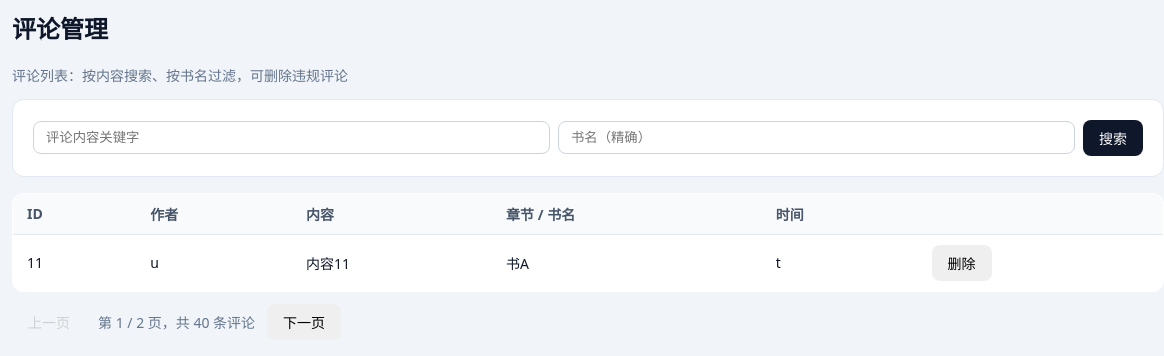
Comments.vue › 翻页作废未完成的删除确认
The image size is (1164, 356).
What coordinates should you click on to do the following:
click the button "删除"
I would click on:
 (962, 263)
Its box is 932,245 -> 992,281.
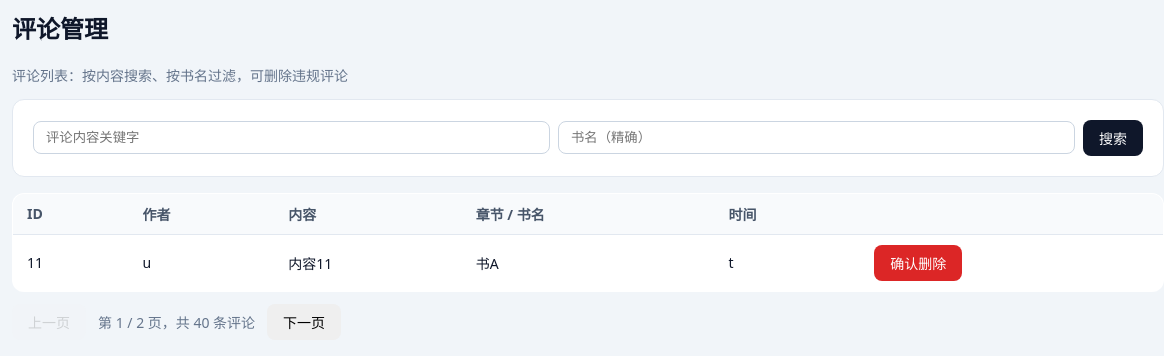
Check: the text "确认删除" is shown, box 874,245 -> 962,281
What coordinates should you click on to do the following:
click the button "下一页"
I would click on:
 (304, 322)
Its box is 267,304 -> 341,340.
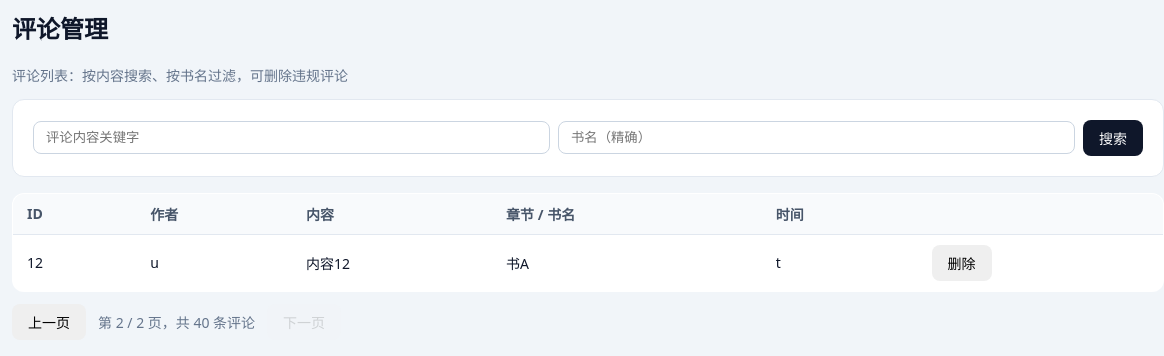
Check: the text "确认删除" is gone
Check: the text "内容12" is shown, box 292,234 -> 492,291
